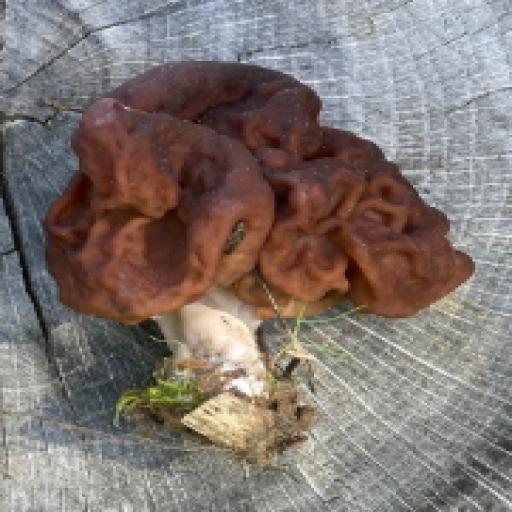mushroom: (0, 0, 489, 494)
